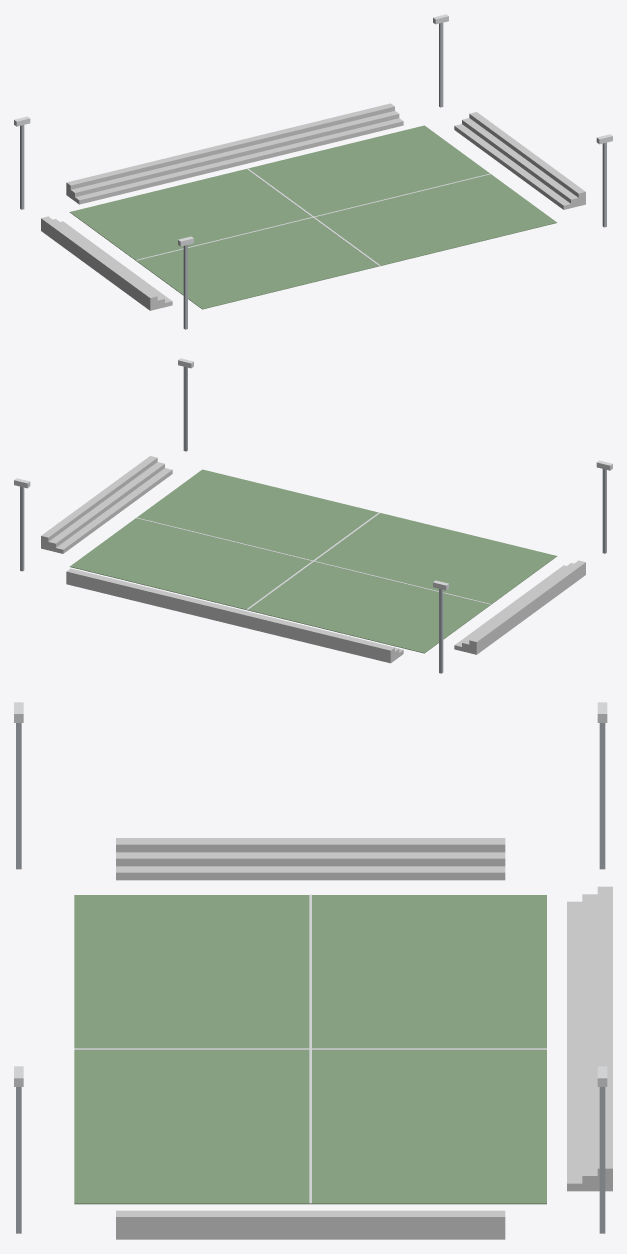
Rendered from retuerto.glb.
The picture shows the model from 3 angles, top to bottom: view 1: azimuth 30°, elevation 25°; view 2: azimuth 150°, elevation 25°; view 3: azimuth 270°, elevation 25°; orthographic projection. The views are drawn at different scales.
Size of the model in its own units: 129 by 25.4 by 86.2.
